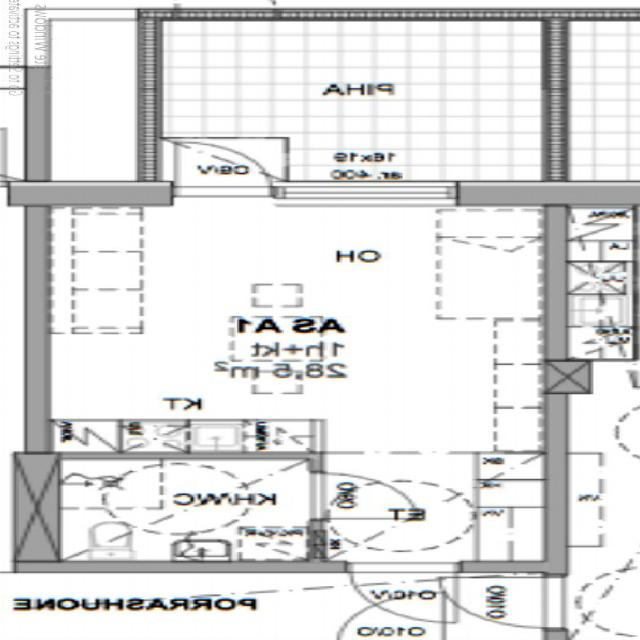door: (353, 561, 457, 623), (176, 140, 271, 197), (312, 472, 423, 519)
